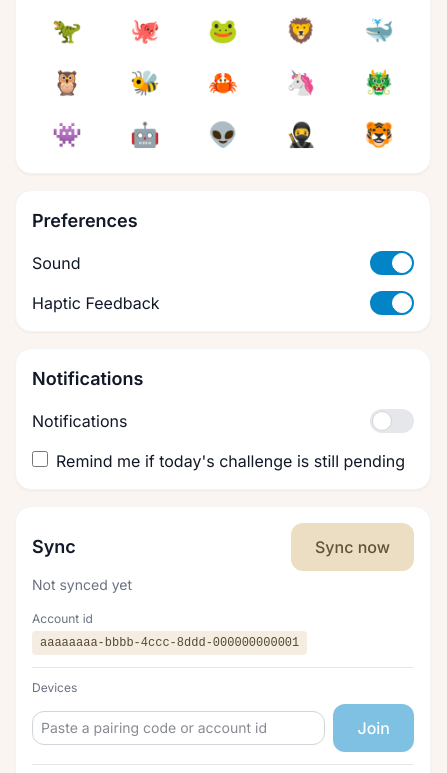
Test: Settings Page › sends a test notification and reports success
(page scrolled)
Click the 3rd checkbox: [392, 421] box top-left (370, 409), bottom-right (414, 433)
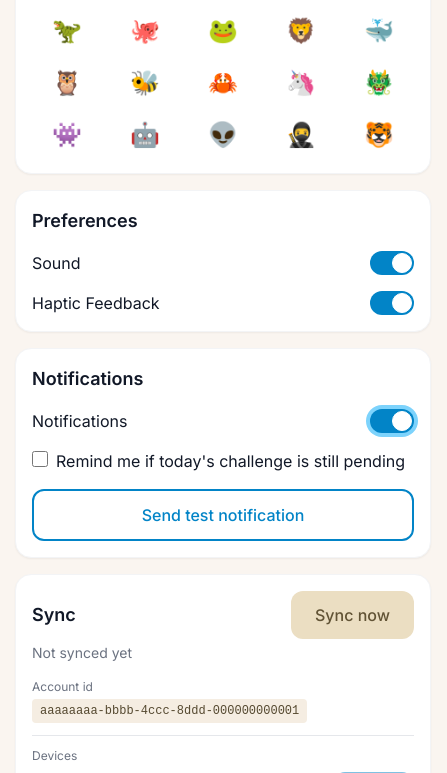
Click the button "Send test notification": [223, 515] box top-left (32, 489), bottom-right (414, 541)
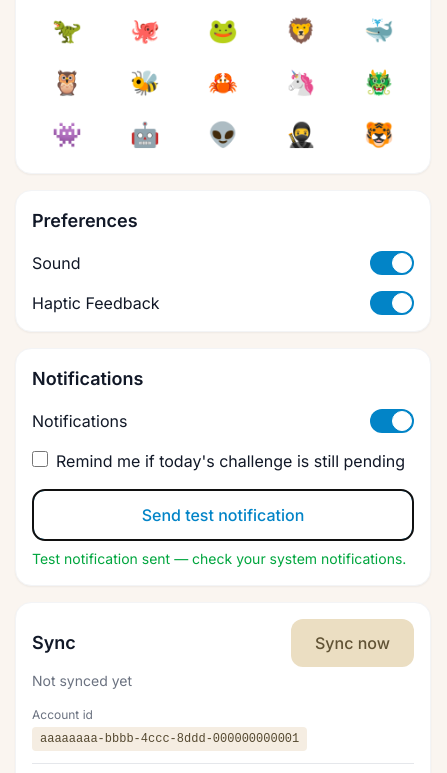
Check: the text "Test notification sent — check your system notifications." is shown, box top-left (32, 549), bottom-right (414, 569)
